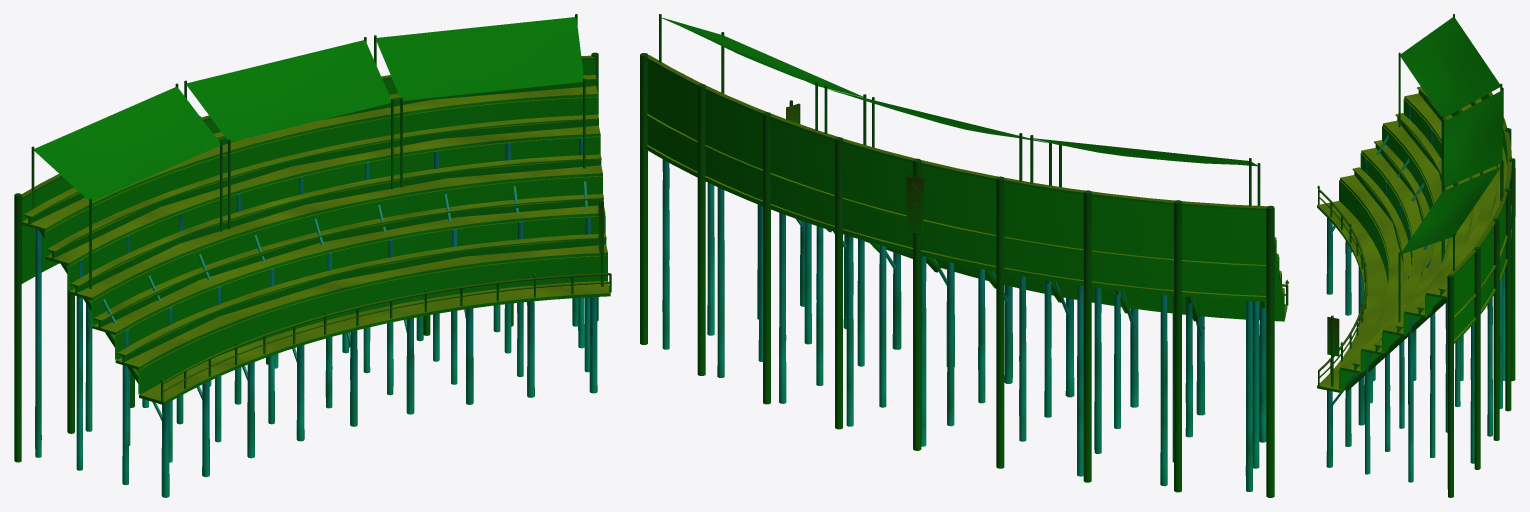
The model's file is gallery_segment_b.glb.
3 renders of one model, left to right at view 1: azimuth 30°, elevation 25°; view 2: azimuth 150°, elevation 25°; view 3: azimuth 270°, elevation 25°, orthographic. The views are drawn at different scales.
Parts seen in each view (by area): view 1: gallery_segment_b; view 2: gallery_segment_b; view 3: gallery_segment_b.
Boxes of the visible parts, bbox=[...] form: gallery_segment_b: bbox=[14, 14, 611, 497]; gallery_segment_b: bbox=[640, 14, 1288, 497]; gallery_segment_b: bbox=[1317, 14, 1515, 497].
Size of what is drawn, in the model's own units: 35.33 by 17.85 by 12.58.
